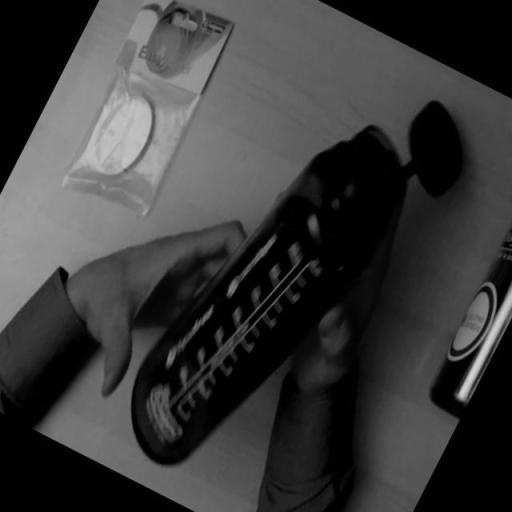bottle: (108, 81, 426, 505)
